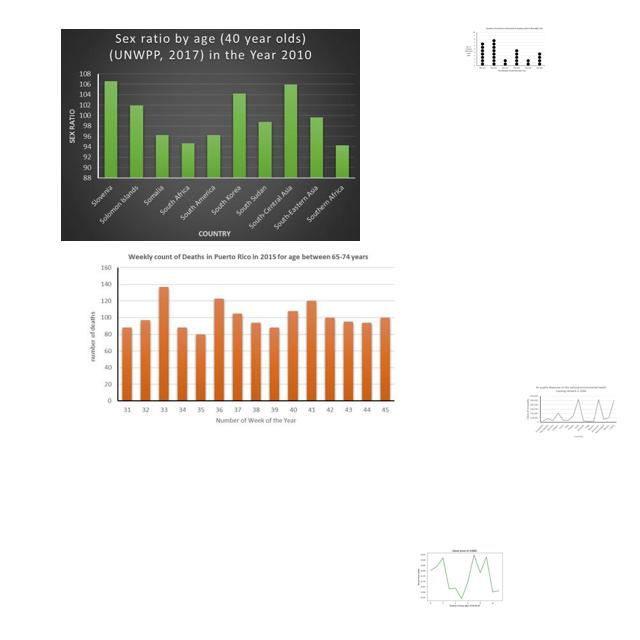Graph: (61, 29, 360, 241), (82, 244, 402, 433), (415, 543, 512, 610), (524, 384, 618, 439), (464, 27, 545, 73)
